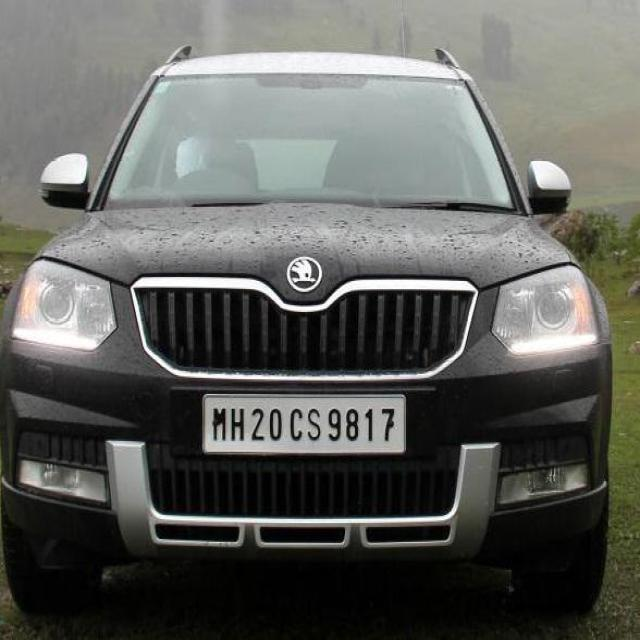number_plate: (204, 394, 402, 449)
